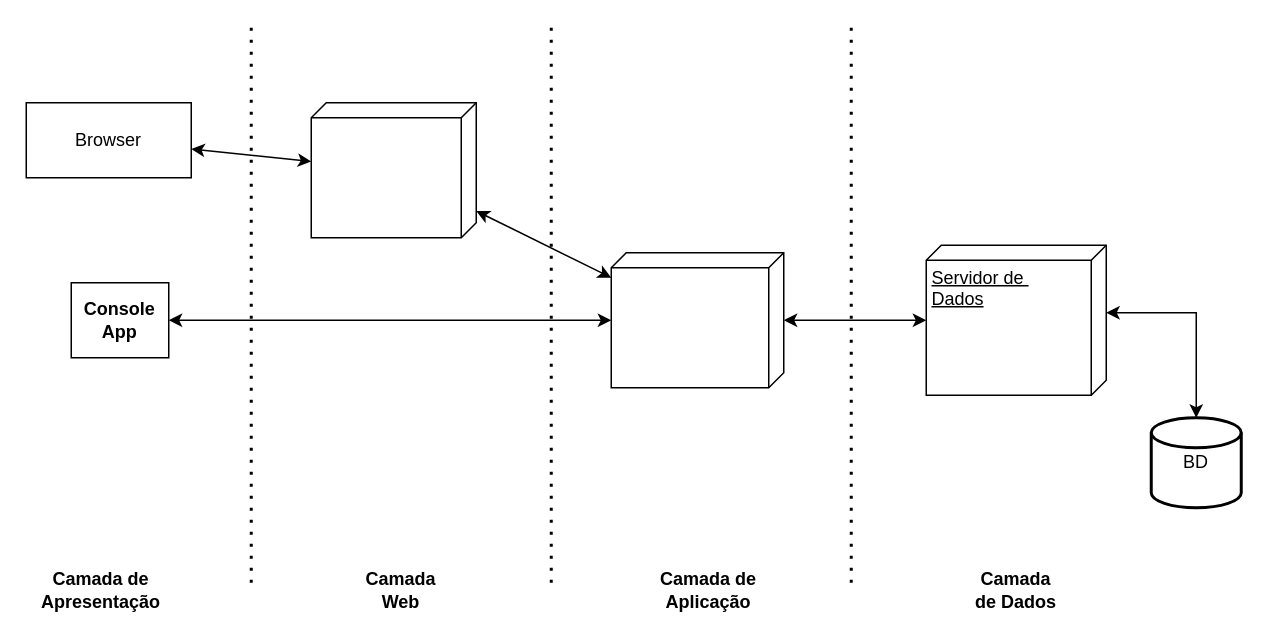
Image size: 1269x638. Some labels were removed from this diagram. Here are the shapes that lost their labels. From the top down, the box of each, then its label:
(310, 101, 476, 238): Servidor Web
(610, 251, 784, 388): Servidor de Aplicação
